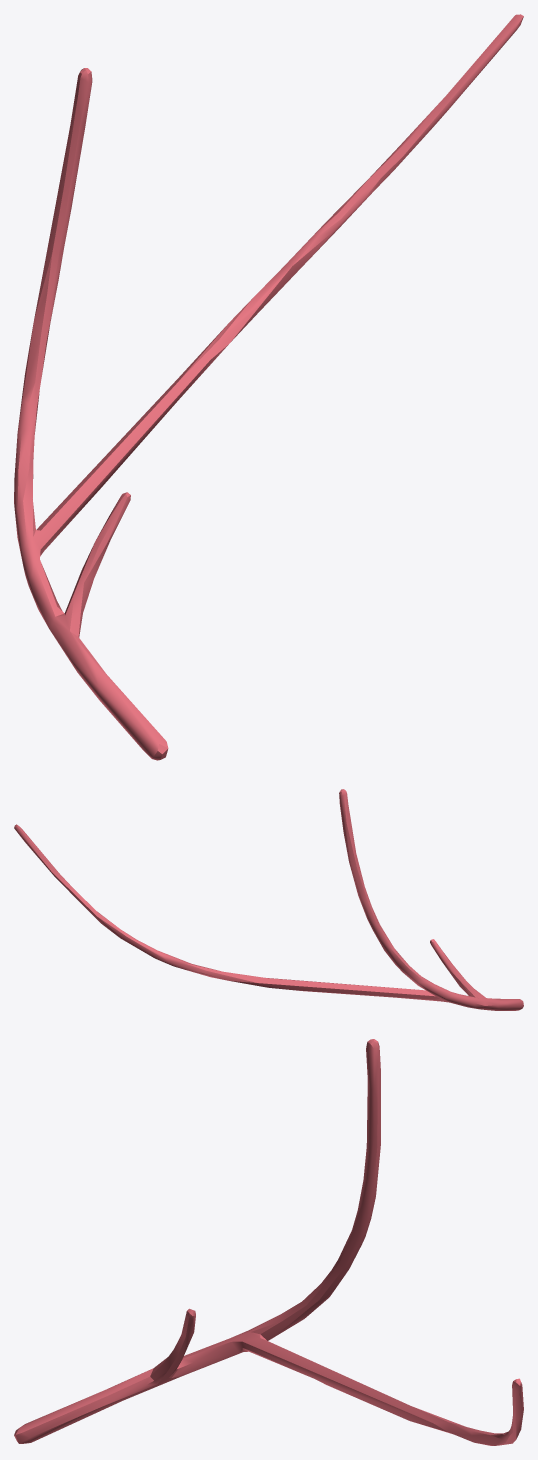
Rendered from fma50668_fj5175.glb.
3 renders of one model, top to bottom at view 1: azimuth 30°, elevation 25°; view 2: azimuth 150°, elevation 25°; view 3: azimuth 270°, elevation 25°, orthographic. The views are drawn at different scales.
Parts seen in each view (by area): view 1: FMA50668_FJ5175; view 2: FMA50668_FJ5175; view 3: FMA50668_FJ5175.
Part boxes in pixels (<box>): FMA50668_FJ5175: <box>14,14,523,760</box>; FMA50668_FJ5175: <box>14,789,523,1010</box>; FMA50668_FJ5175: <box>14,1039,523,1445</box>.
Size of the model in its own units: 0.0193 by 0.0143 by 0.0143.
